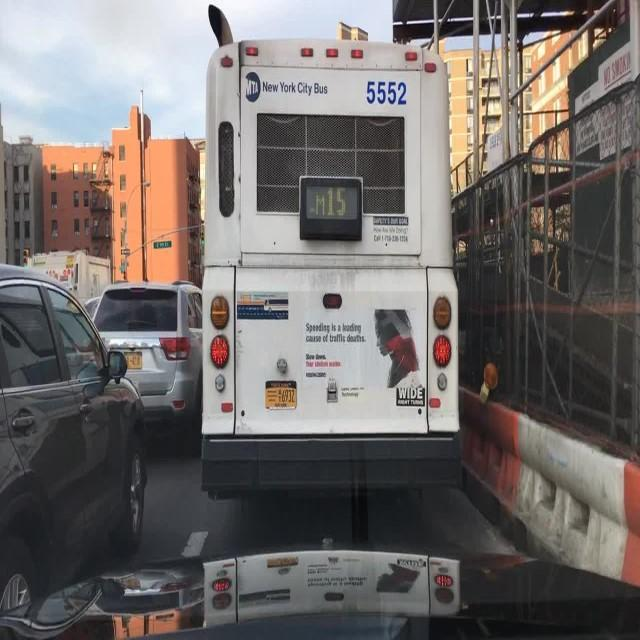normal: (0, 265, 148, 631), (84, 277, 207, 430)
